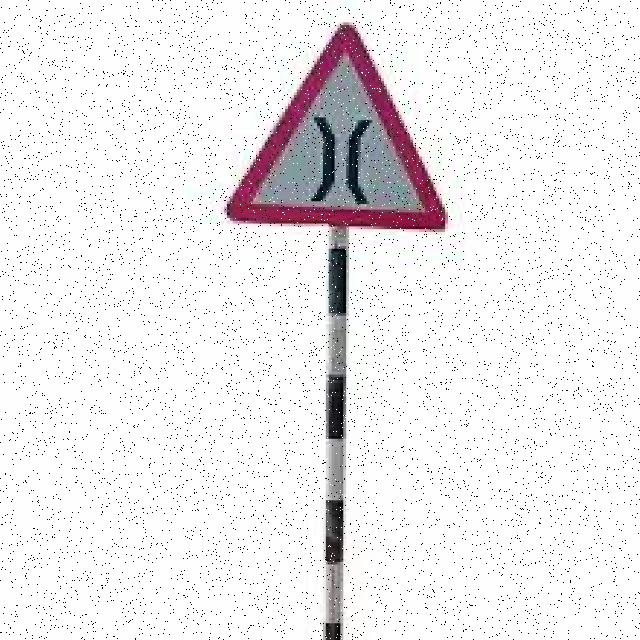Narrow_Bridge: (220, 22, 452, 220)
